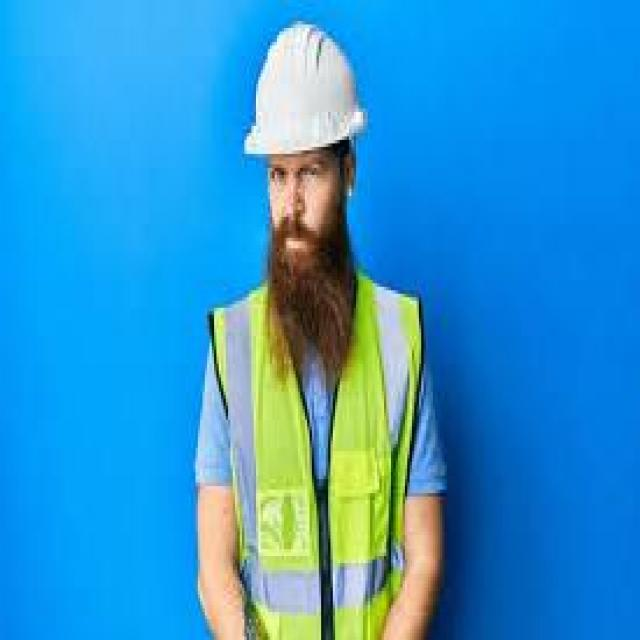Reflective-Jacket: (198, 273, 437, 633)
Safety-Helmet: (242, 18, 363, 164)
